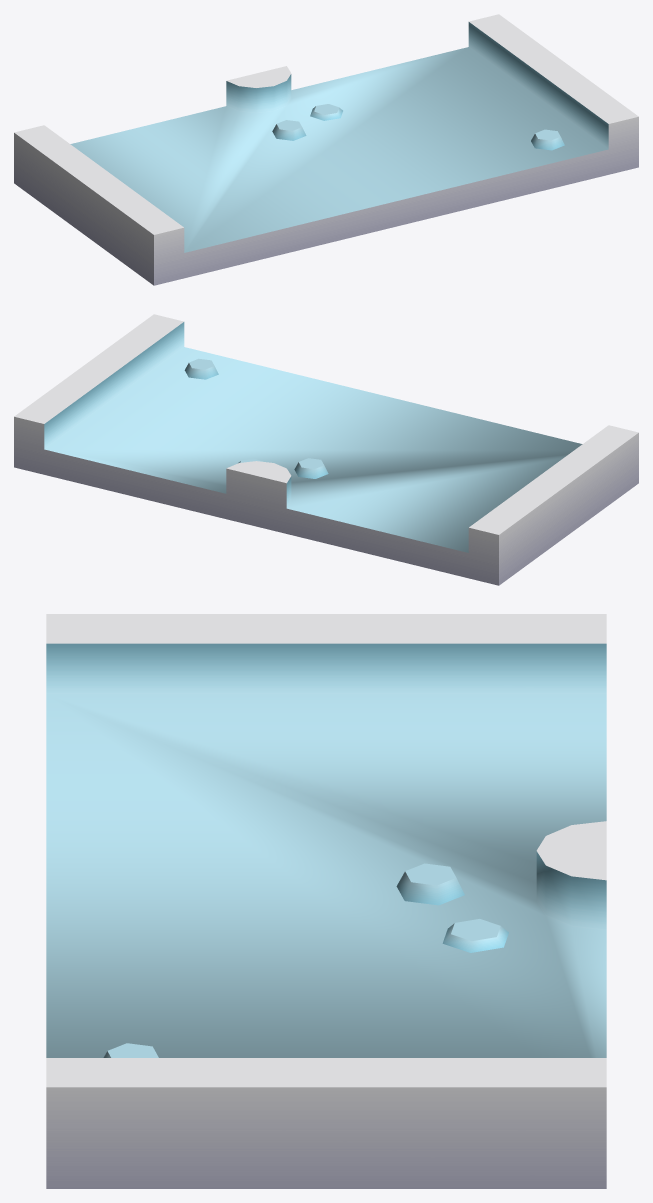
The model's file is snow-tile-wide-split.fbx.
3 renders of one model, top to bottom at view 1: azimuth 30°, elevation 25°; view 2: azimuth 150°, elevation 25°; view 3: azimuth 270°, elevation 25°, orthographic. The views are drawn at different scales.
Parts seen in each view (by area): view 1: snow-tile-wide-split; view 2: snow-tile-wide-split; view 3: snow-tile-wide-split.
Part boxes in pixels (x1,y1,x2,y2): snow-tile-wide-split: (14,14,638,285); snow-tile-wide-split: (14,314,638,585); snow-tile-wide-split: (46,614,606,1188).
Bounding box in the file's own units: 200 × 20 × 100.
